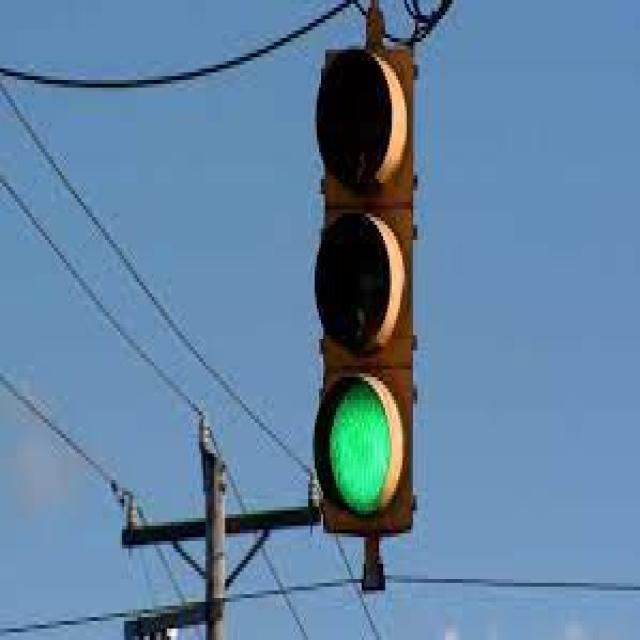green: (313, 31, 415, 544)
